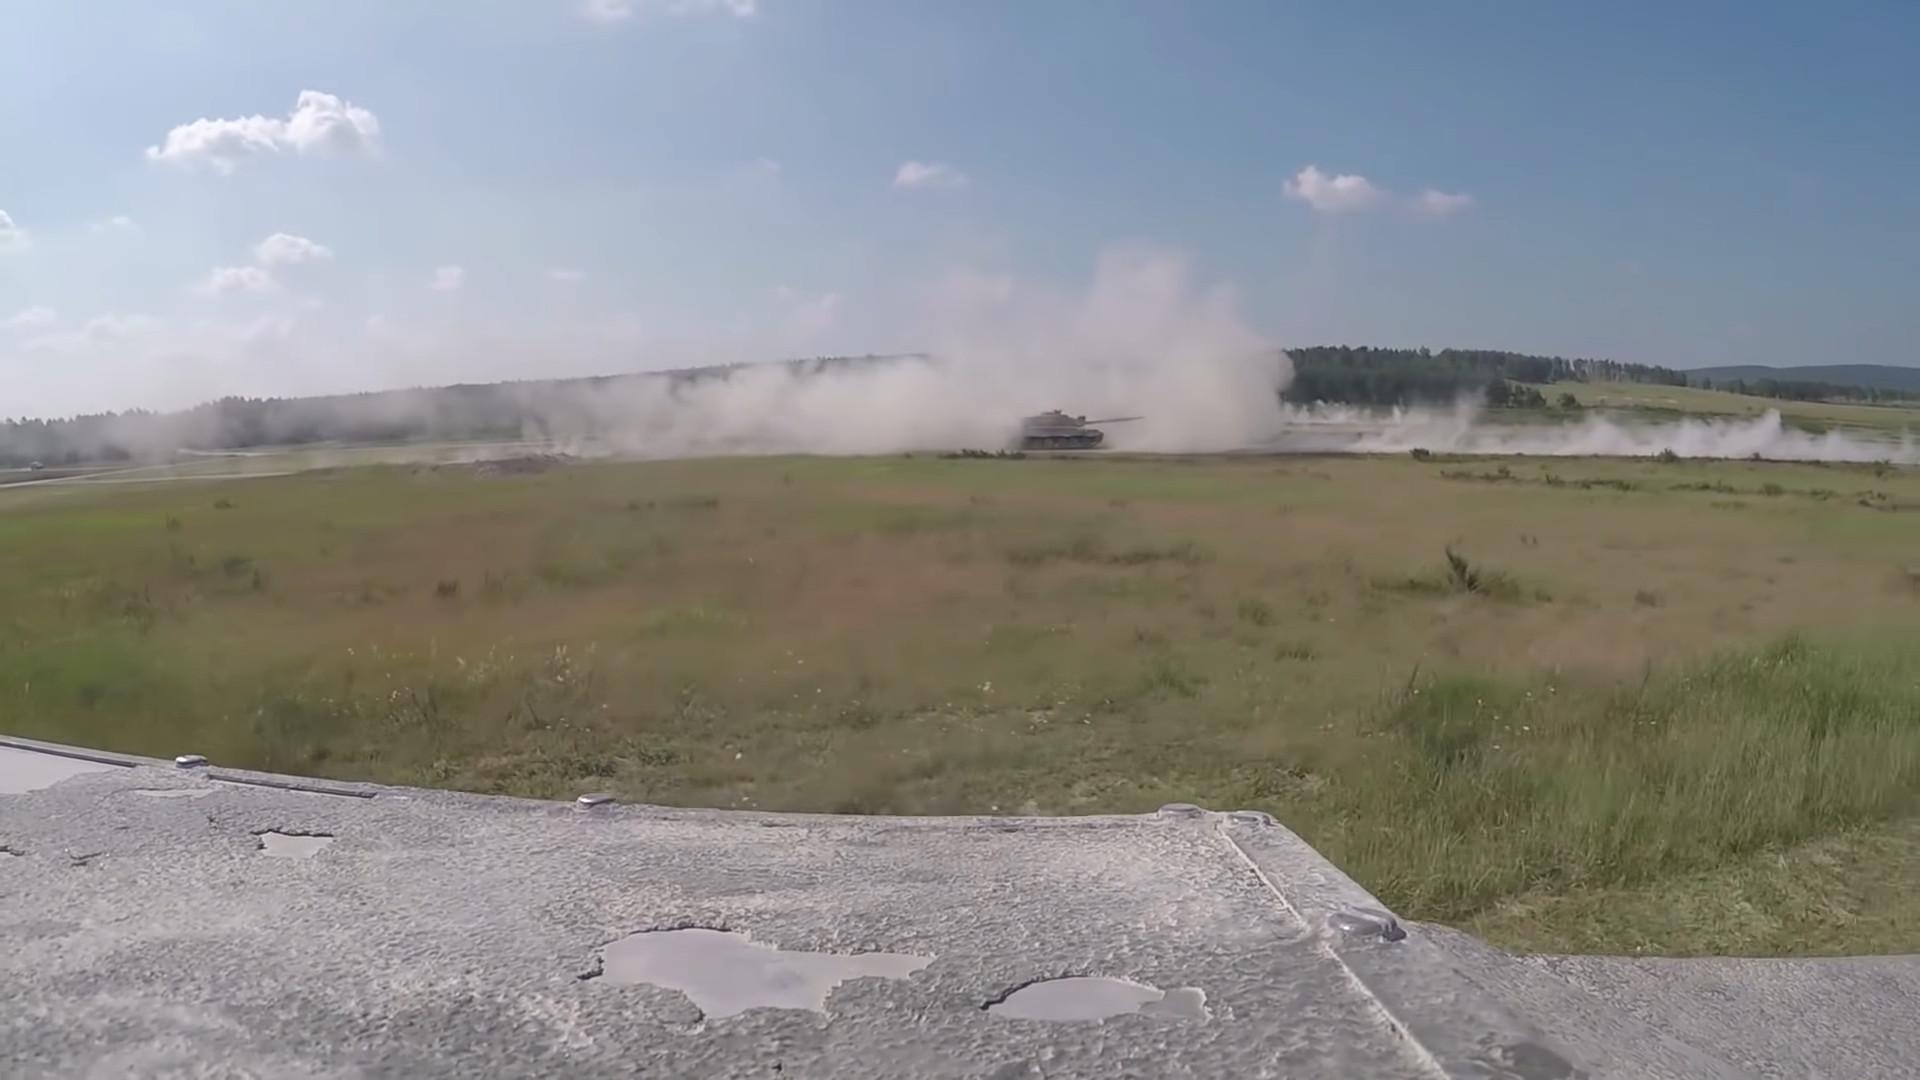tank: (1009, 409, 1146, 448)
